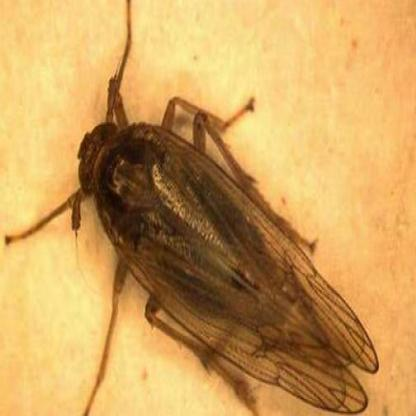brown-planthopper: (73, 117, 373, 409)
